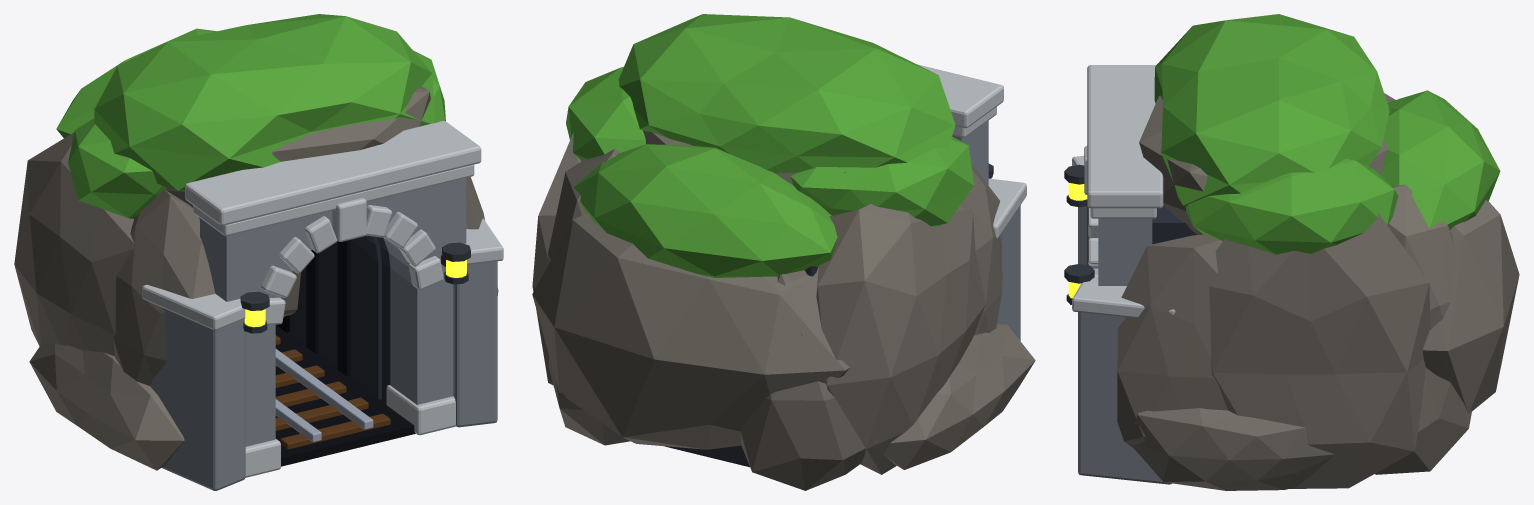
File: tunnel-portal-v2.glb
The picture shows the model from 3 angles, left to right: view 1: azimuth 30°, elevation 25°; view 2: azimuth 150°, elevation 25°; view 3: azimuth 270°, elevation 25°; orthographic projection.
Visible parts, largest first — view 1: CapTopCenter, PortalHeadwall, RockLeftMid, ParapetCoping, WingWall_L, RockLeftFront, RockLeftBase, TunnelBarrel, WingWall_R, TunnelFloor, CapTopLeft, RockCrownMid (+24 smaller); view 2: RockRearCenter, CapTopCenter, RockLeftMid, CapRearSlope, RockRearLeft, RockLeftBase, CapTopLeft, CapTopRight, RockRearRight, RockLeftFront, ParapetCoping, RockRightMid (+4 smaller); view 3: RockRightMid, CapTopCenter, RockRightFront, CapTopRight, RockRightBase, RockRearCenter, CapRearSlope, ParapetCoping, RockRearRight, WingWall_R, RockCrownMid, PortalHeadwall (+5 smaller).
Boxes of the visible parts, box(x1,y1,x2,y2) form: CapTopCenter: box(94, 14, 434, 190); PortalHeadwall: box(200, 178, 466, 446); RockLeftMid: box(14, 132, 134, 356); ParapetCoping: box(185, 121, 481, 225); WingWall_L: box(150, 308, 245, 490); RockLeftFront: box(113, 189, 215, 385); RockLeftBase: box(29, 343, 184, 470); TunnelBarrel: box(190, 204, 390, 402); WingWall_R: box(453, 261, 497, 427); TunnelFloor: box(275, 324, 415, 466); CapTopLeft: box(68, 118, 166, 218); RockCrownMid: box(165, 87, 430, 204); RockRearCenter: box(532, 213, 849, 449); CapTopCenter: box(618, 14, 955, 173); RockLeftMid: box(816, 204, 985, 474); CapRearSlope: box(573, 144, 837, 277); RockRearLeft: box(740, 267, 876, 490); RockLeftBase: box(883, 324, 1035, 469); CapTopLeft: box(790, 136, 974, 226); CapTopRight: box(566, 66, 645, 160); RockRearRight: box(548, 148, 629, 445); RockLeftFront: box(959, 164, 1002, 335); ParapetCoping: box(917, 64, 1003, 128); RockRightMid: box(532, 132, 581, 385); RockRightMid: box(1209, 212, 1430, 488); CapTopCenter: box(1154, 14, 1389, 206); RockRightFront: box(1117, 234, 1227, 448); CapTopRight: box(1185, 158, 1398, 254); RockRightBase: box(1132, 408, 1334, 490); RockRearCenter: box(1422, 200, 1519, 413); CapRearSlope: box(1381, 90, 1500, 234); ParapetCoping: box(1087, 65, 1163, 208); RockRearRight: box(1375, 184, 1471, 474); WingWall_R: box(1078, 312, 1172, 484); RockCrownMid: box(1139, 95, 1387, 234); PortalHeadwall: box(1098, 218, 1152, 285).
Size of the model in its own units: 2.85 by 2.44 by 2.87.
